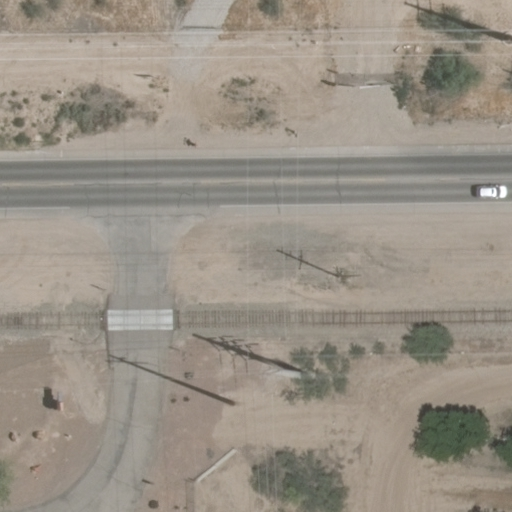DT: (218, 391, 245, 415), (330, 267, 362, 285)
TT: (281, 361, 338, 382)
